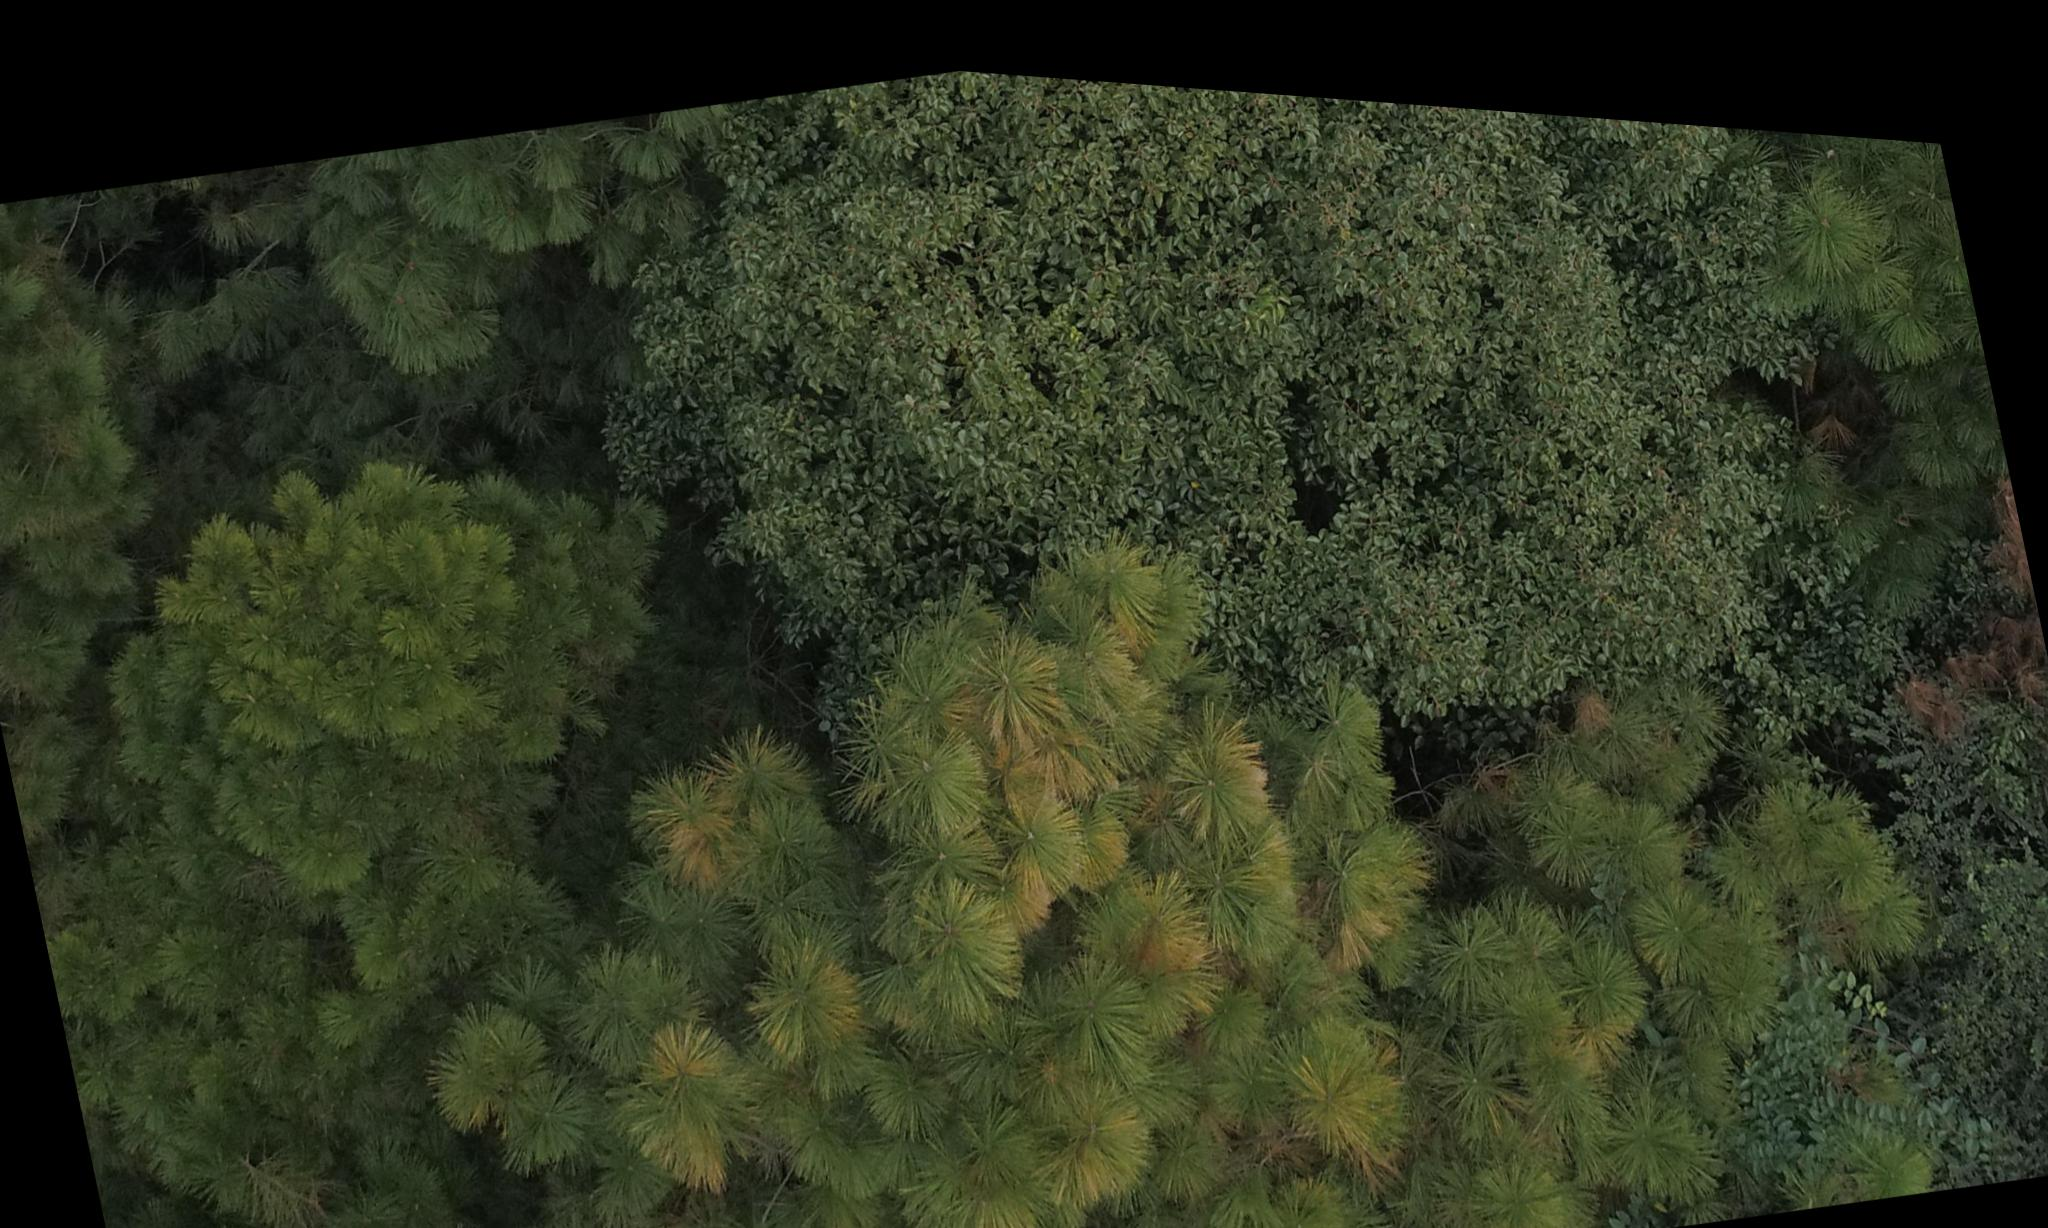light: (501, 503, 1529, 1228)
